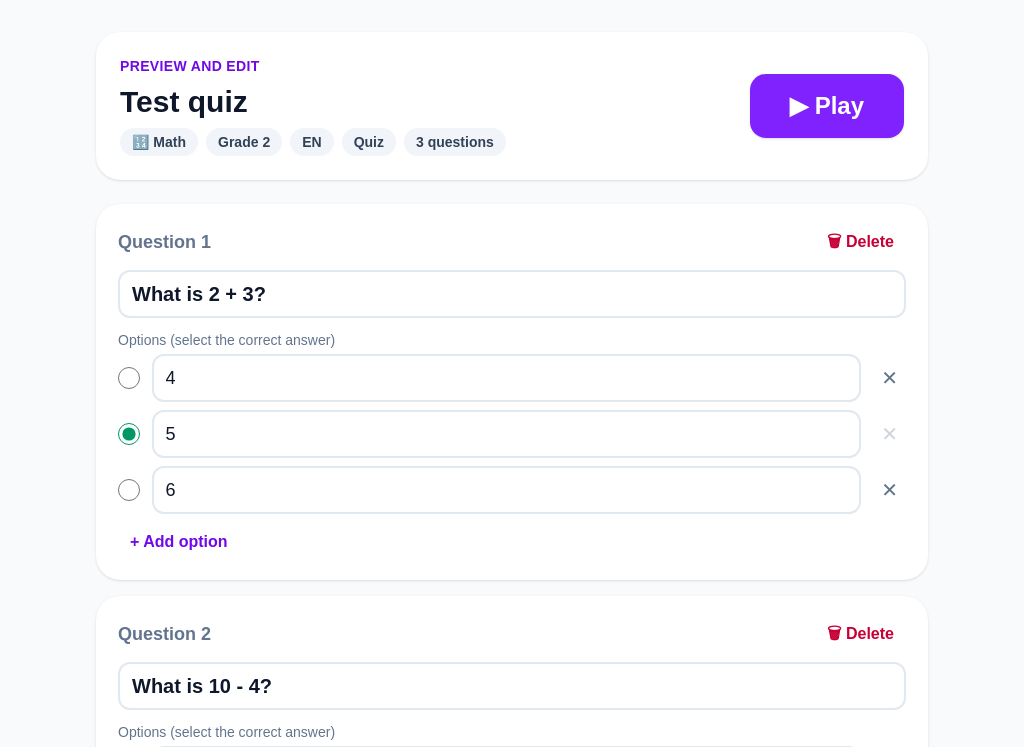
Test: GamePreview › changes the correct answer and can't remove the correct option
Expected: the button named "Remove option 2 of question 1" is disabled, [873, 416, 906, 452]
Click the radio button named "Option 3 of question 1 is correct" at [129, 490], box [118, 478, 140, 502]
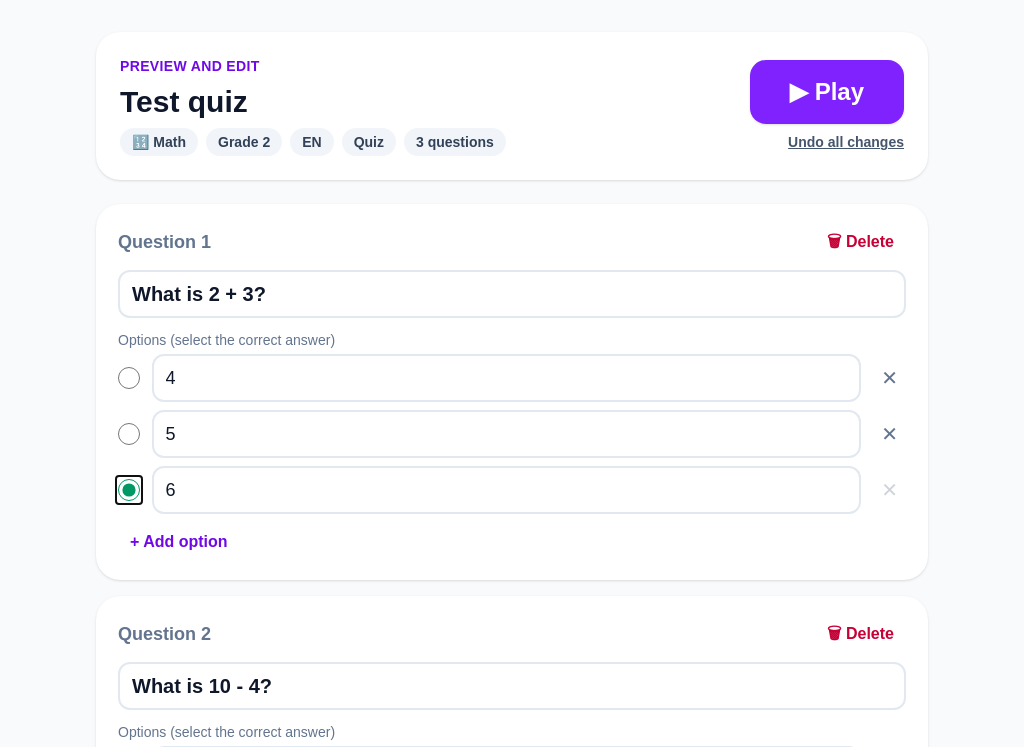
Now the button named "Remove option 2 of question 1" is enabled, box [873, 416, 906, 452]
Now the button named "Remove option 3 of question 1" is disabled, box [873, 472, 906, 508]
